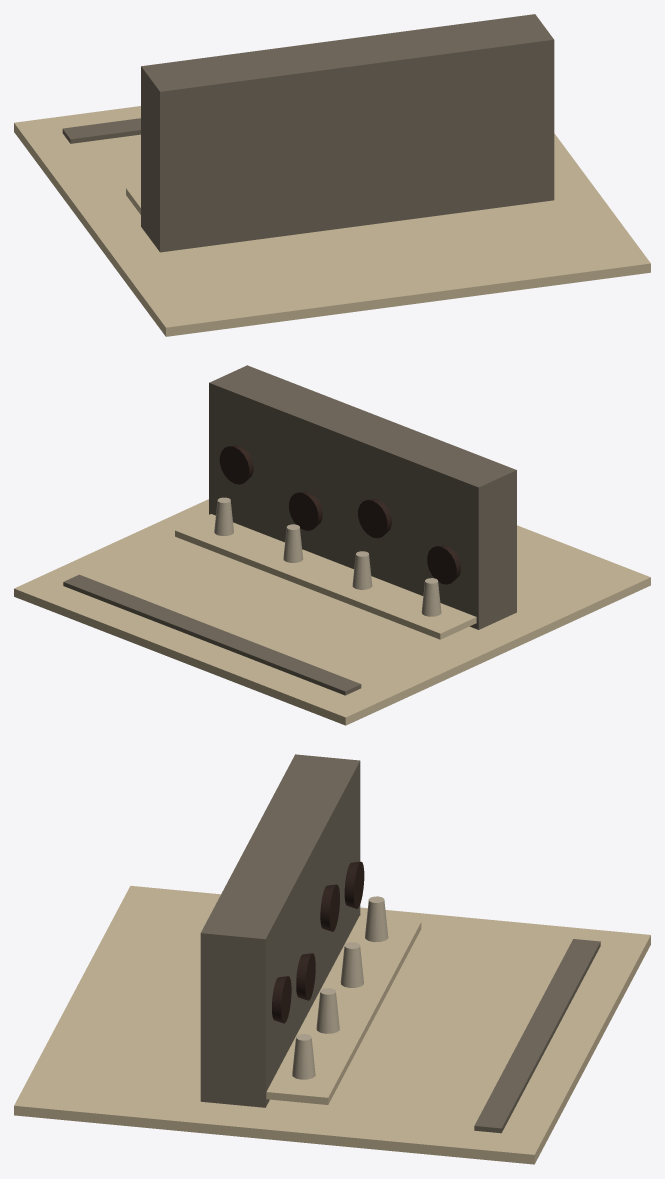
File: model-medium.glb
3 renders of one model, top to bottom at view 1: azimuth 30°, elevation 25°; view 2: azimuth 150°, elevation 25°; view 3: azimuth 270°, elevation 25°, orthographic. The views are drawn at different scales.
Visible parts, largest first — view 1: grotto_cliff_face, context_site_plinth, front_scale_strip; view 2: context_site_plinth, grotto_cliff_face, grotto_viewing_walkway, front_scale_strip, shadow_cave_recess (×4), seated_figure_mass (×4); view 3: context_site_plinth, grotto_cliff_face, grotto_viewing_walkway, front_scale_strip, seated_figure_mass (×4), shadow_cave_recess (×4).
Part boxes in pixels (x1=…): grotto_cliff_face: x1=141, y1=14, x2=554, y2=252; context_site_plinth: x1=14, y1=106, x2=650, y2=336; front_scale_strip: x1=62, y1=118, x2=140, y2=143; context_site_plinth: x1=14, y1=499, x2=650, y2=725; grotto_cliff_face: x1=209, y1=365, x2=516, y2=629; grotto_viewing_walkway: x1=175, y1=514, x2=476, y2=639; front_scale_strip: x1=63, y1=574, x2=361, y2=695; shadow_cave_recess (×4): x1=219, y1=445, x2=460, y2=584; seated_figure_mass (×4): x1=214, y1=497, x2=441, y2=616; context_site_plinth: x1=14, y1=885, x2=650, y2=1164; grotto_cliff_face: x1=200, y1=754, x2=360, y2=1107; grotto_viewing_walkway: x1=266, y1=916, x2=421, y2=1104; front_scale_strip: x1=474, y1=939, x2=600, y2=1133; seated_figure_mass (×4): x1=292, y1=896, x2=388, y2=1079; shadow_cave_recess (×4): x1=272, y1=861, x2=364, y2=1023.
Bounding box in the file's own units: 9.55 × 2.95 × 9.55.
